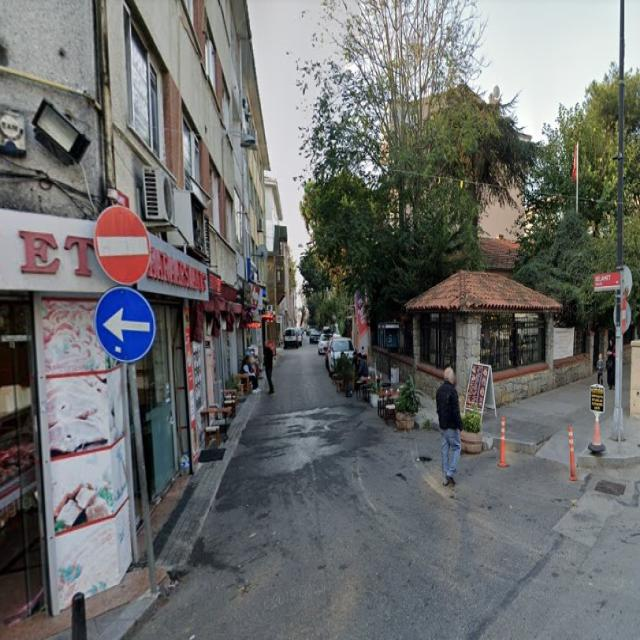girisyok: (94, 206, 150, 284)
sol: (96, 287, 156, 365)
